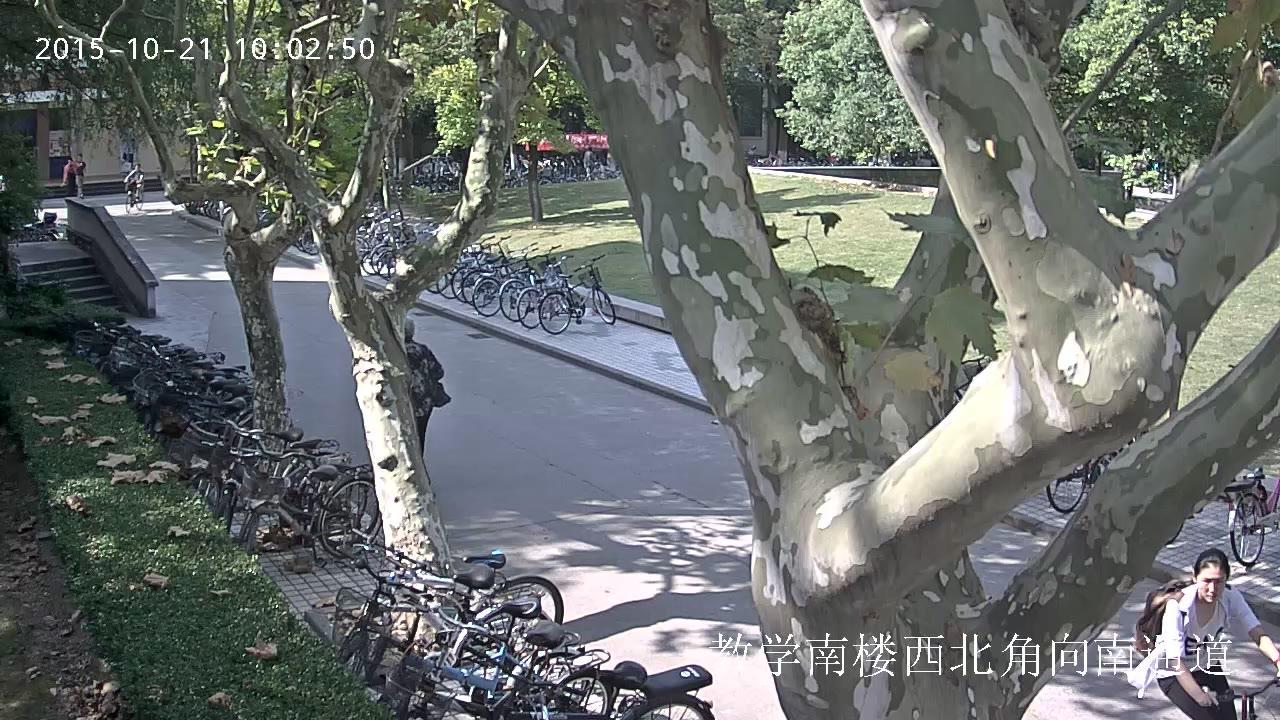person: (1119, 547, 1278, 719), (1121, 548, 1278, 718), (403, 316, 452, 455), (122, 163, 143, 213), (123, 163, 143, 204), (74, 152, 86, 196), (63, 158, 74, 194)
